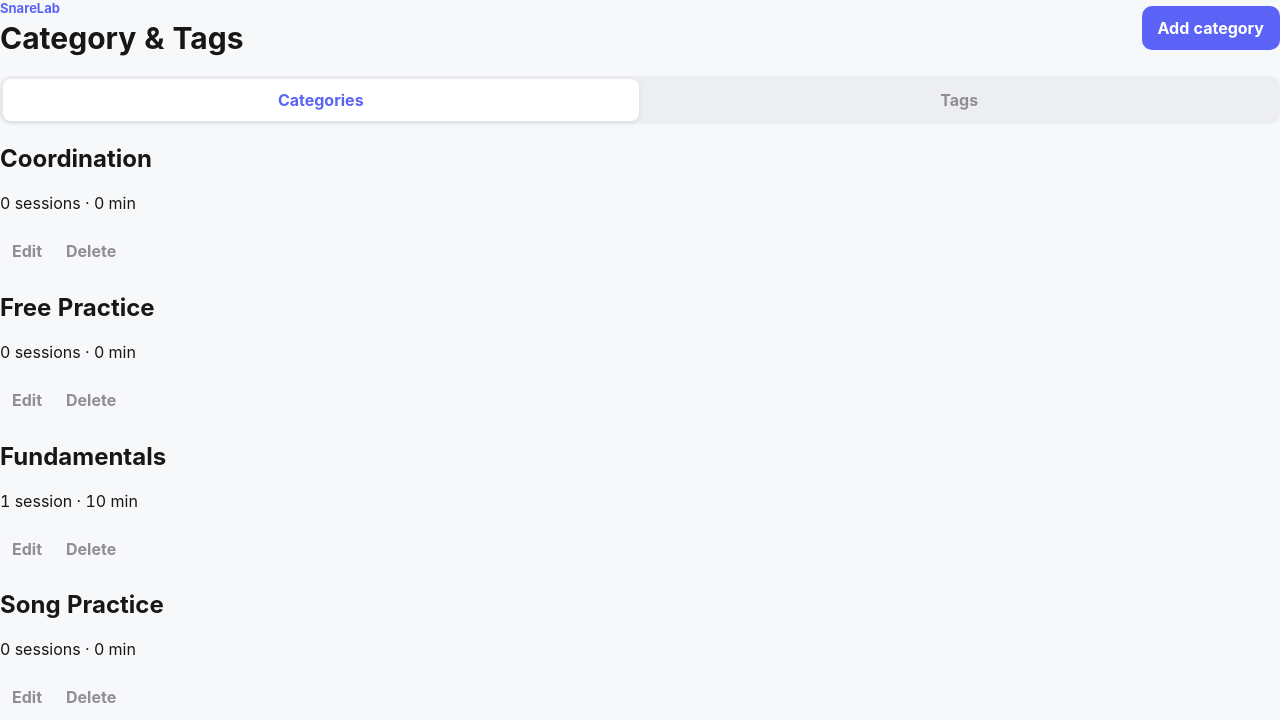
Test: CategoryPage › confirms category deletion and migrates linked records to Uncategorized
This screenshot has width=1280, height=720.
Expected: the heading "Fundamentals" is shown, [0,442,166,471]
Click the button with aria-label "Delete Fundamentals" at x=91, y=548, box [54,526,128,570]
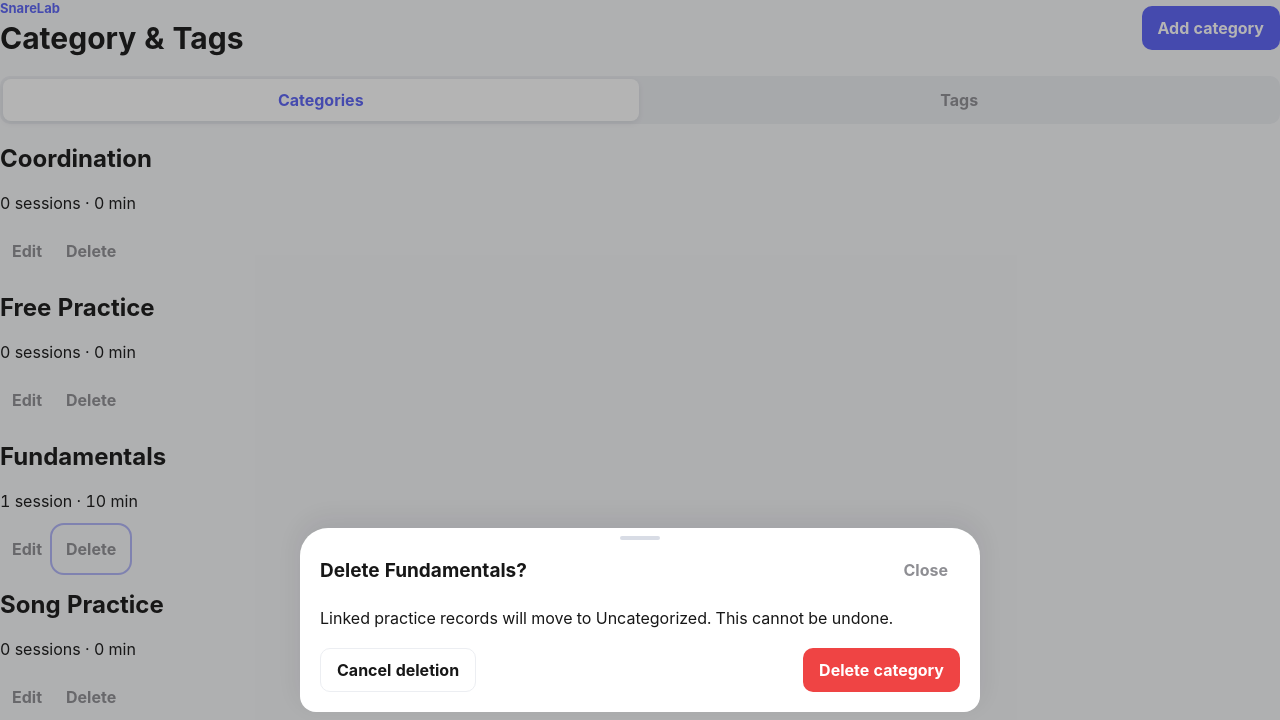
Expected: the text "move to Uncategorized" is shown, [320,608,893,628]
Click the button "Cancel deletion" at x=398, y=670, box [320,648,476,692]
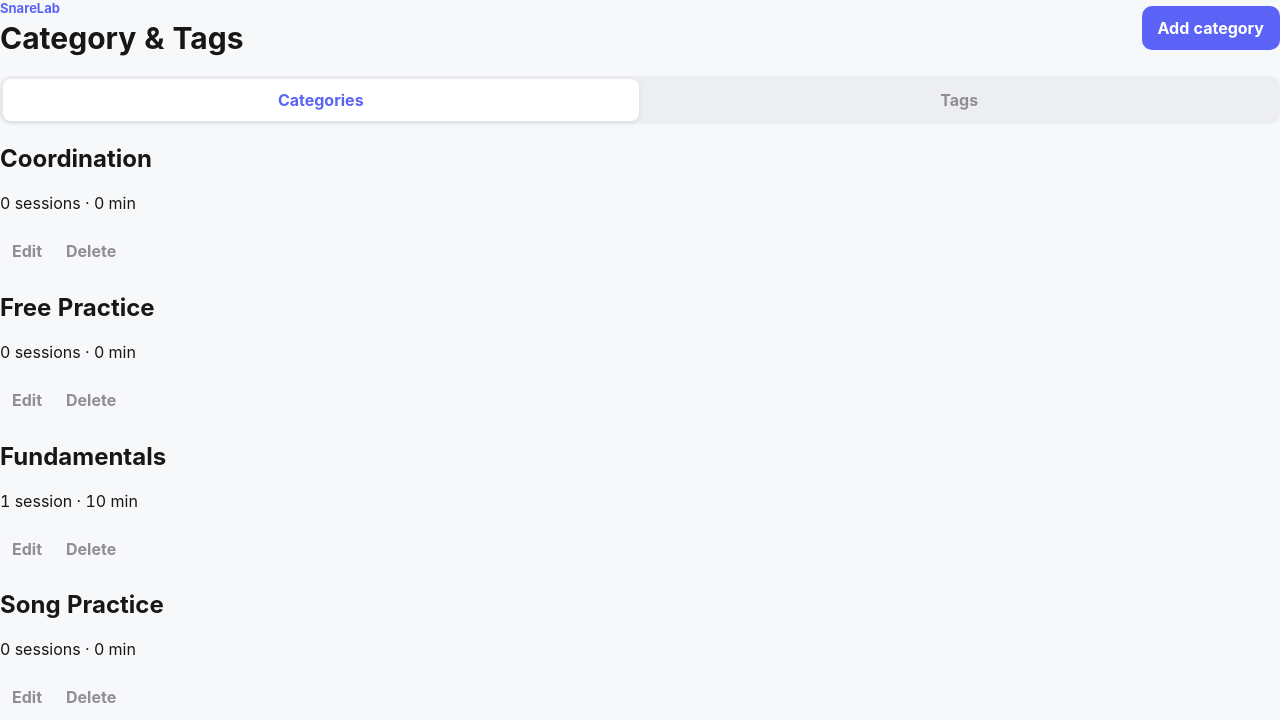
Expected: the heading "Fundamentals" is shown, [0,442,166,471]
Click the button with aria-label "Delete Fundamentals" at x=91, y=548, box [54,526,128,570]
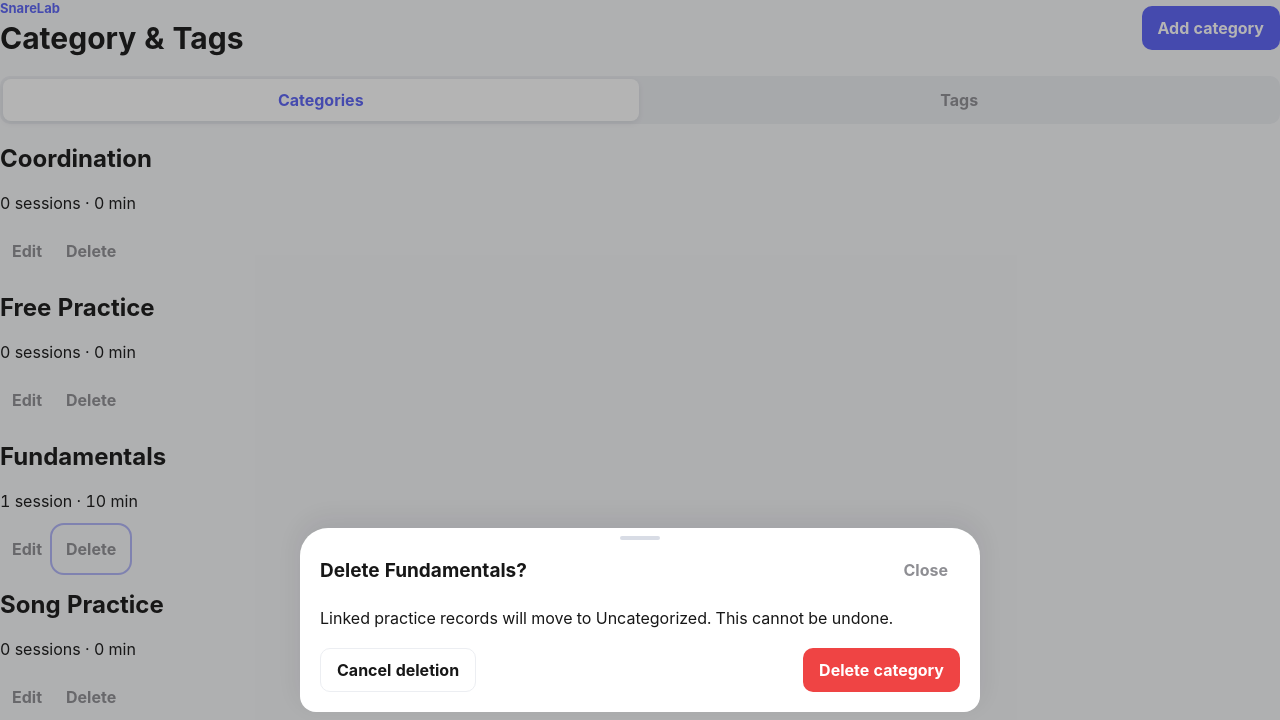
Click the button "Delete category" at x=882, y=670, box [803,648,960,692]
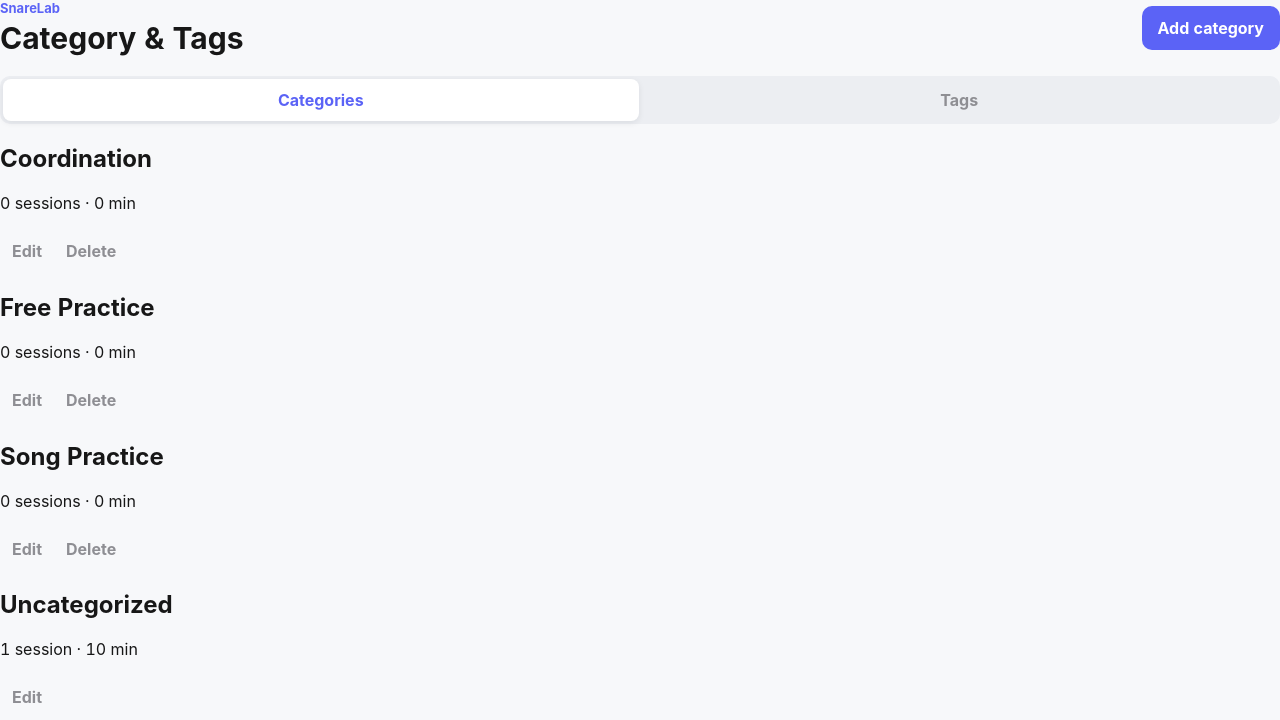
Expected: the heading "Fundamentals" is gone
